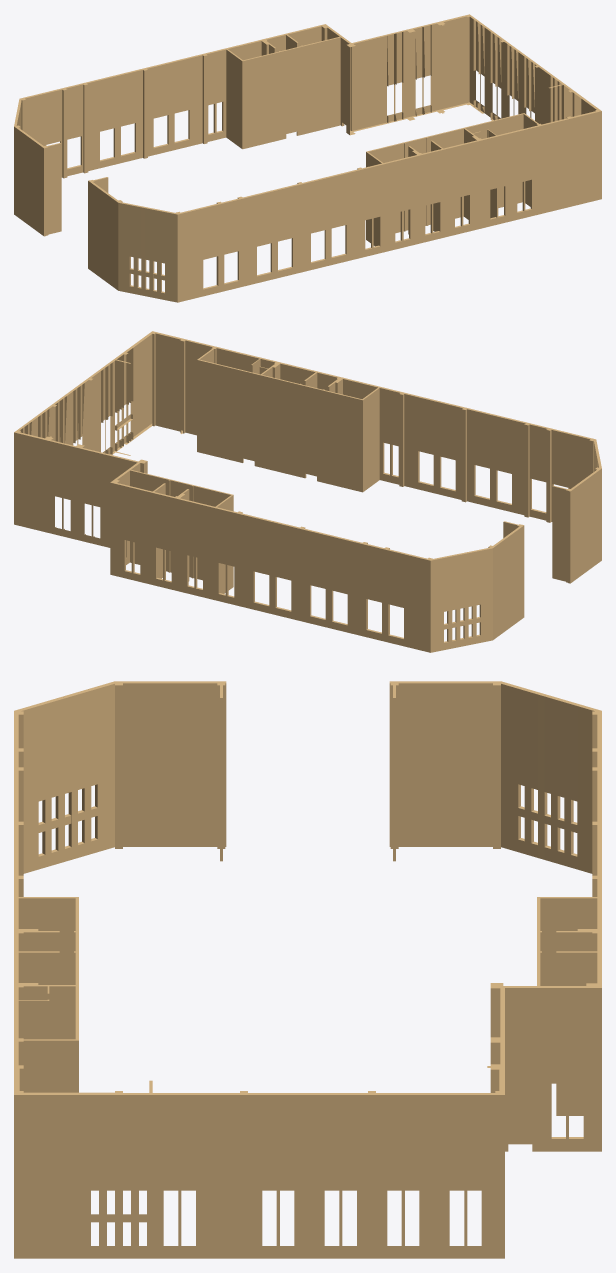
The picture shows the model from 3 angles, top to bottom: view 1: azimuth 30°, elevation 25°; view 2: azimuth 150°, elevation 25°; view 3: azimuth 270°, elevation 25°; orthographic projection. The views are drawn at different scales.
Parts seen in each view (by area): view 1: 上层外墙; view 2: 上层外墙; view 3: 上层外墙.
Boxes of the visible parts, left/top/right/bottom form: 上层外墙: left=14, top=14, right=601, bottom=302; 上层外墙: left=14, top=331, right=601, bottom=652; 上层外墙: left=14, top=681, right=601, bottom=1258.
Bounding box in the file's own units: 61.1 × 11.26 × 36.7.
